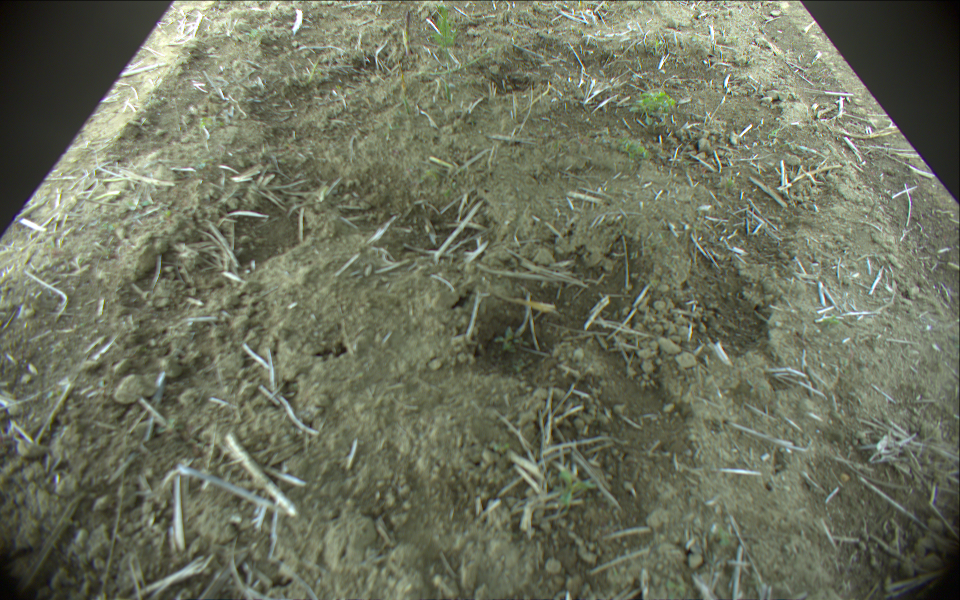aspa: (404, 9, 413, 53)
